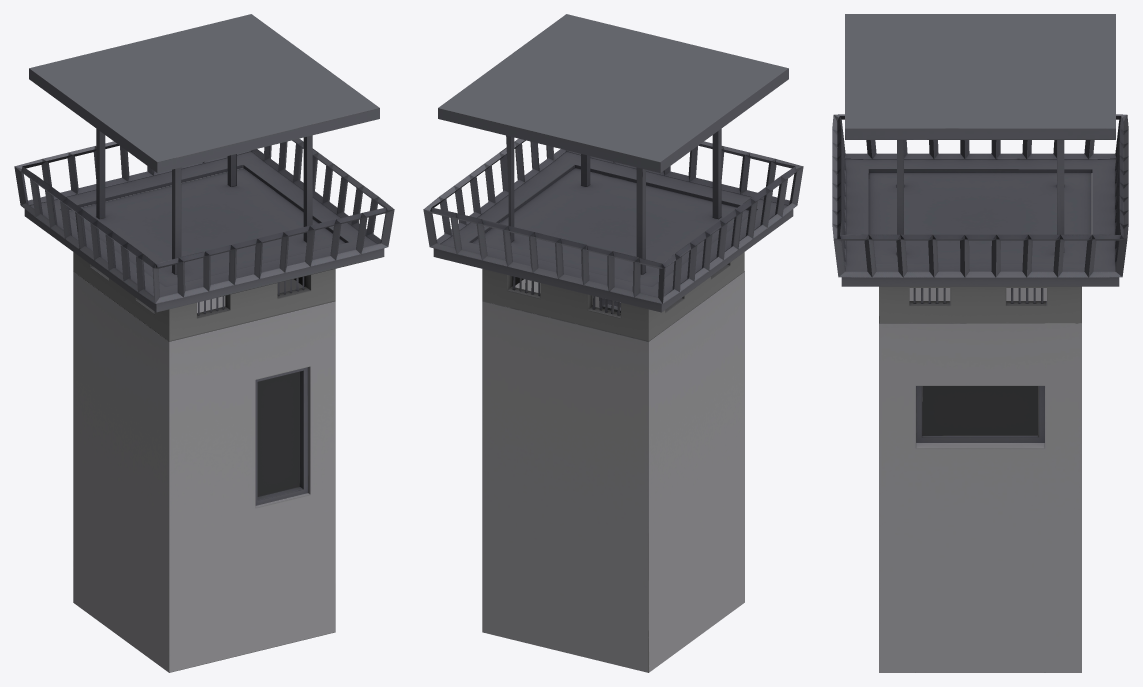
File: newSolarStat.glb
3 views of the same model, side by side, from view 1: azimuth 30°, elevation 25°; view 2: azimuth 150°, elevation 25°; view 3: azimuth 270°, elevation 25° (orthographic). The views are drawn at different scales.
Visible parts, largest first — view 1: Cube.031; view 2: Cube.031; view 3: Cube.031.
Boxes of the visible parts, <box> form: Cube.031: <box>14,14,394,672</box>; Cube.031: <box>423,14,803,672</box>; Cube.031: <box>832,14,1128,672</box>.
Bounding box in the file's own units: 0.9834 × 2.04 × 0.9834.
Materials: 4 (4 with a texture image).
